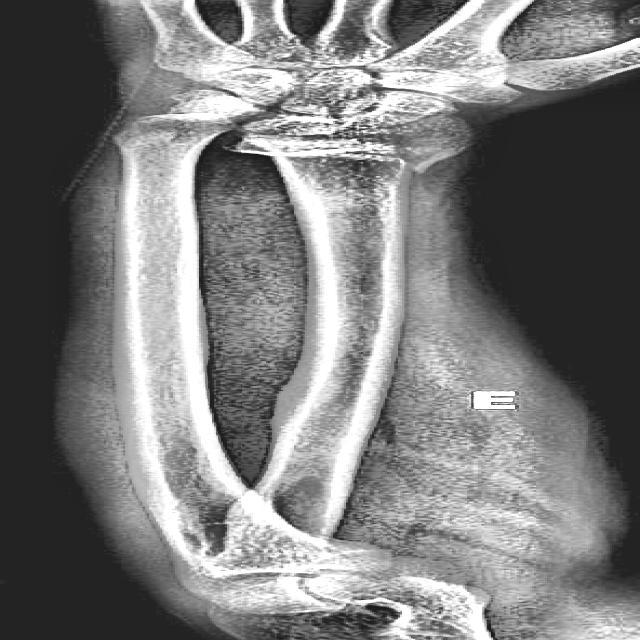fracture: (253, 144, 441, 163)
